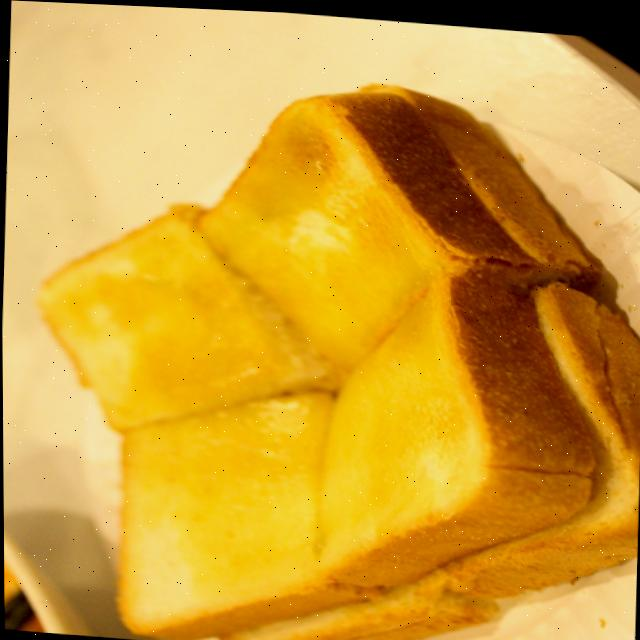面包点心: (4, 27, 640, 640)
